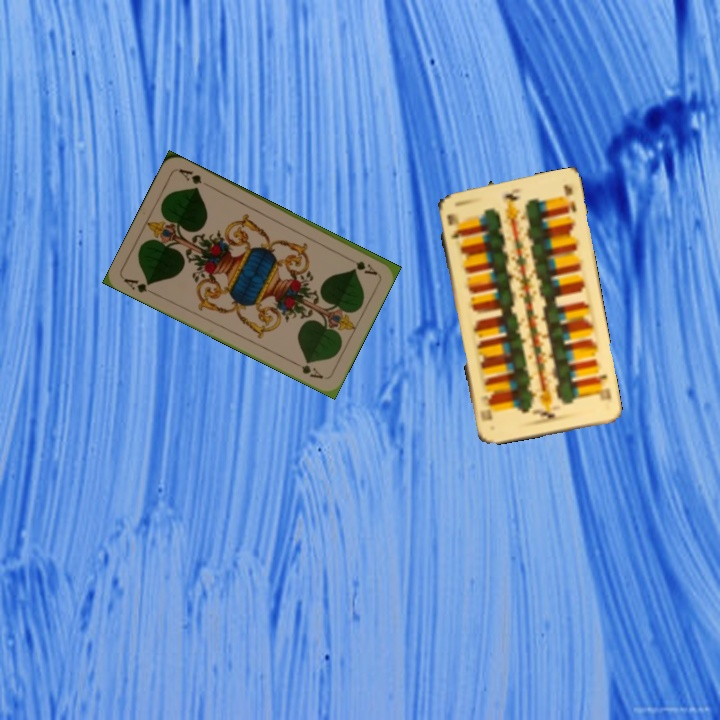E10: (592, 370, 613, 403), (442, 210, 464, 241)
GA: (342, 253, 380, 278), (120, 274, 158, 298)
